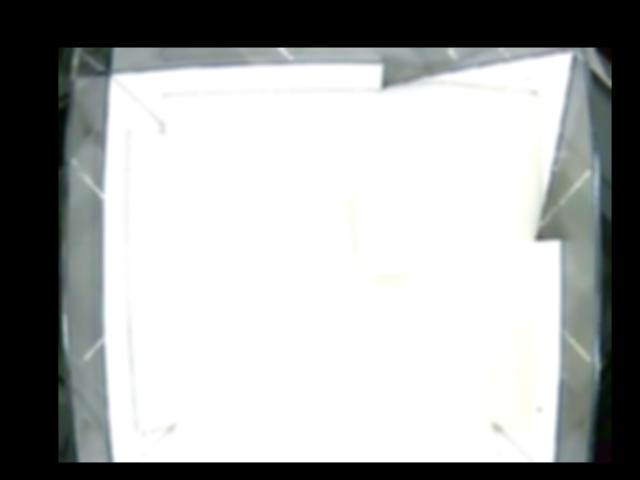Mooli: (357, 169, 429, 275)
